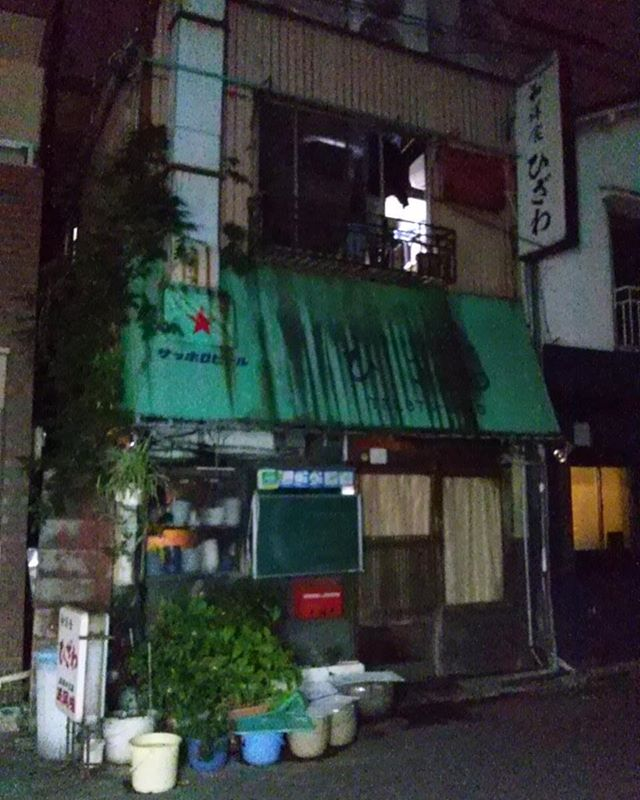building: (45, 1, 614, 678)
sign: (506, 64, 580, 270)
